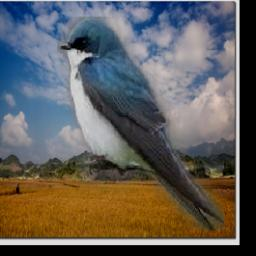Swallow: (58, 17, 225, 230)
